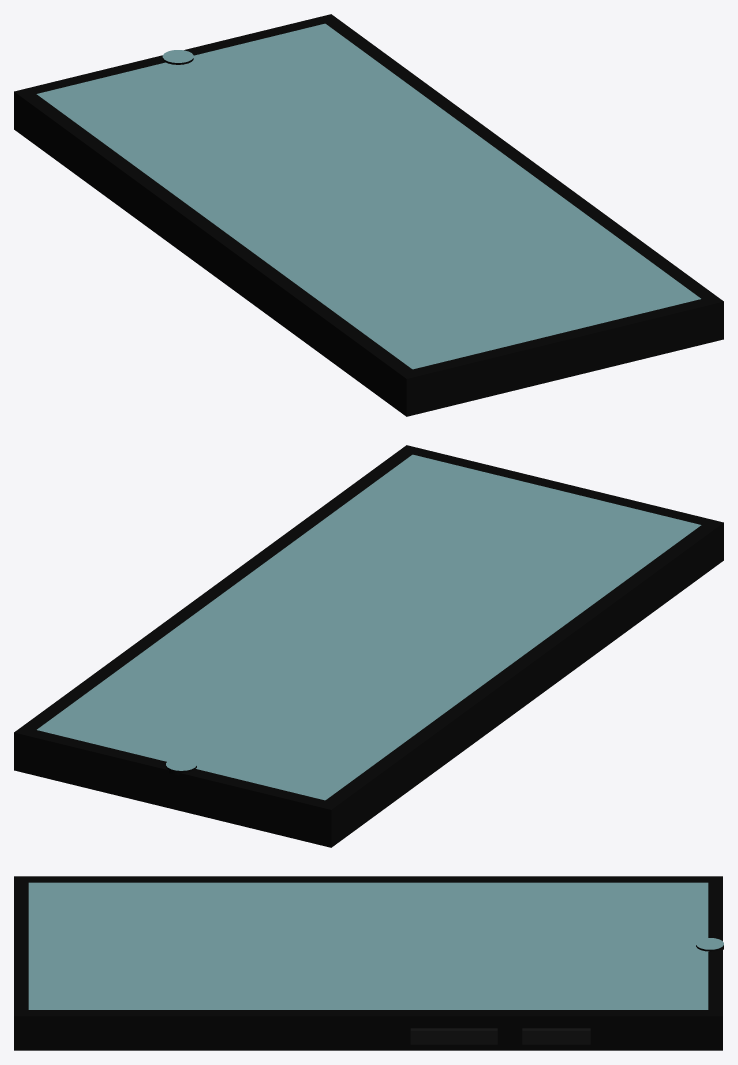
The model's file is Celular.fbx.
3 views of the same model, one above another, from view 1: azimuth 30°, elevation 25°; view 2: azimuth 150°, elevation 25°; view 3: azimuth 270°, elevation 25° (orthographic). The views are drawn at different scales.
Visible parts, largest first — view 1: Celular; view 2: Celular; view 3: Celular.
Part boxes in pixels (left/top/right/bottom): Celular: left=14, top=14, right=723, bottom=416; Celular: left=14, top=445, right=723, bottom=847; Celular: left=14, top=876, right=723, bottom=1050.
Size of the model in its own units: 7.11 by 0.8423 by 15.02.
